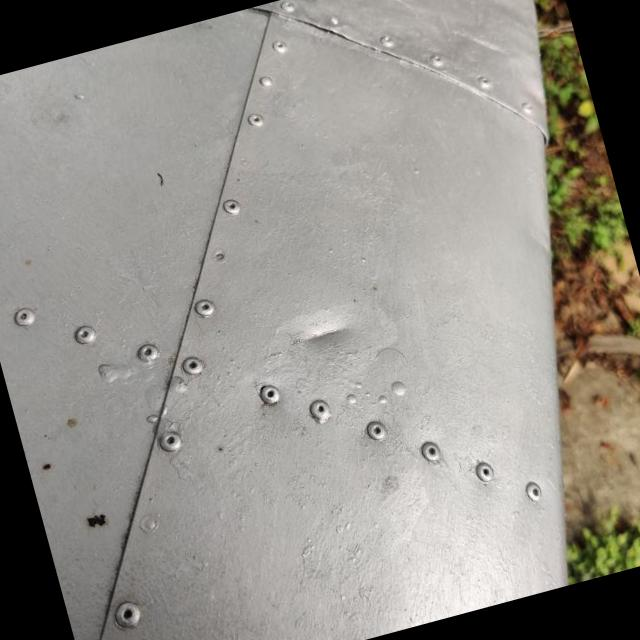Dent: (276, 289, 390, 378)
